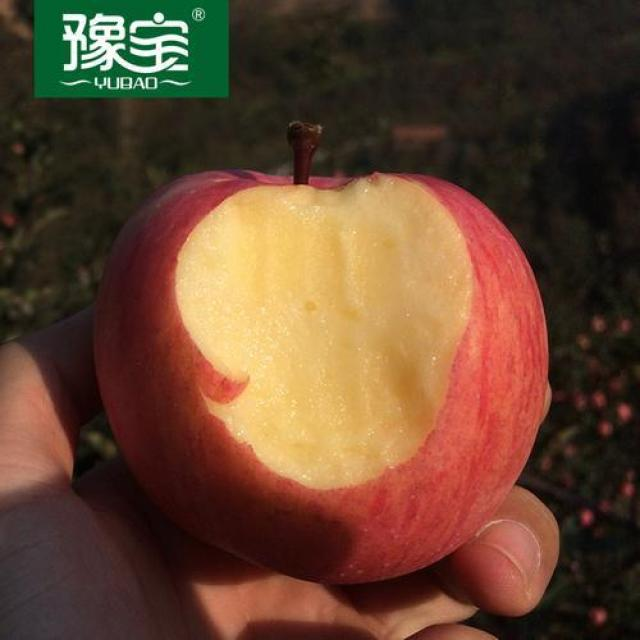Rotten: (110, 166, 536, 598)
